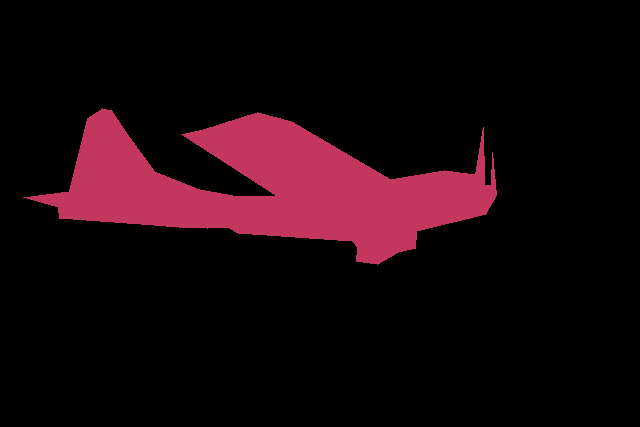Airplane: (23, 108, 497, 265)
